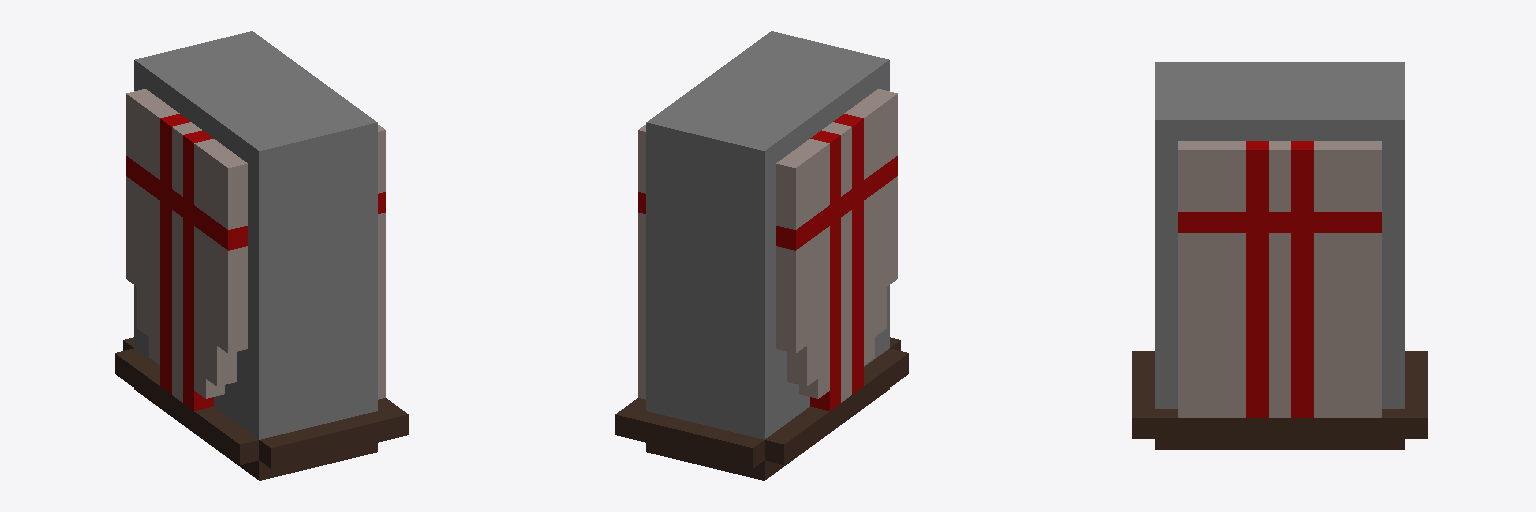
3 views of the same model, side by side, from view 1: azimuth 30°, elevation 25°; view 2: azimuth 150°, elevation 25°; view 3: azimuth 270°, elevation 25° (orthographic).
Size of the model in its own units: 8 by 16 by 13.
Materials: 1 (1 with a texture image).